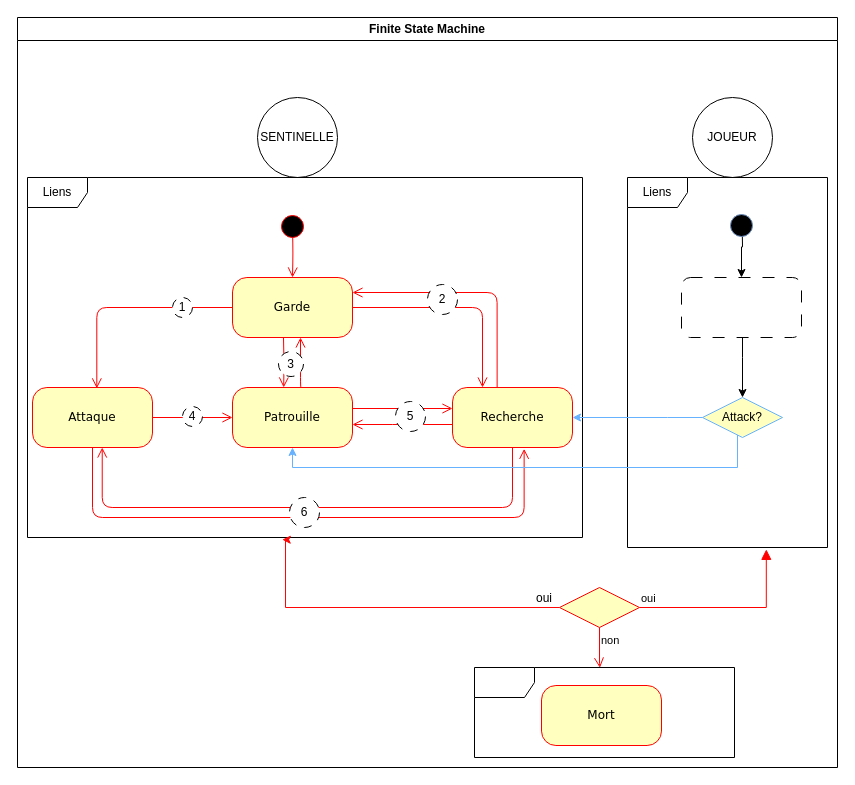
This 855x785 diagram has some shape labels left out. Here are the shapes that lost their labels. From the top down, the centre of each, then its label:
At (741,307): "Idle".
At (599,607): "Vivant?".
At (604,712): "End game".
